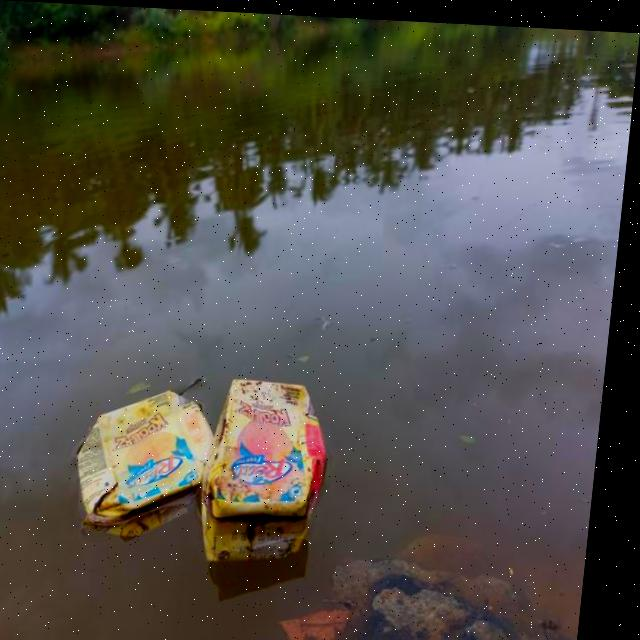paper: (63, 373, 232, 536), (216, 372, 363, 548)
